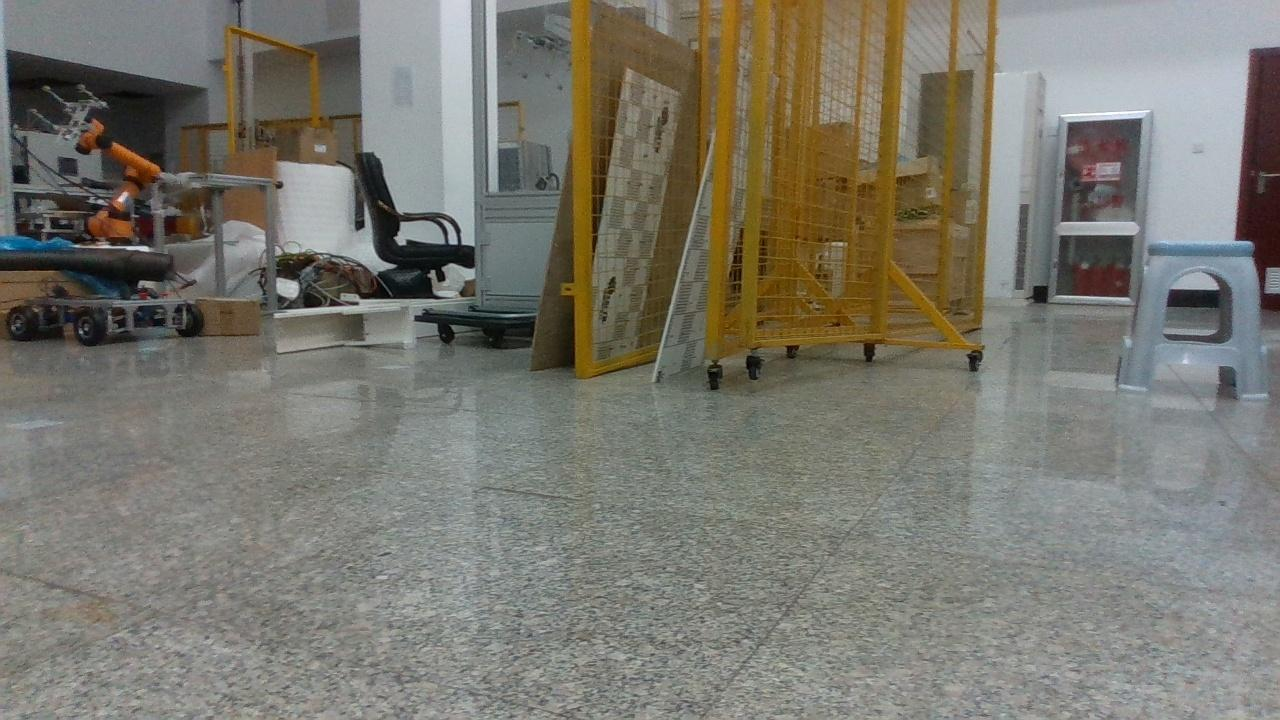stool: (1118, 240, 1268, 400)
